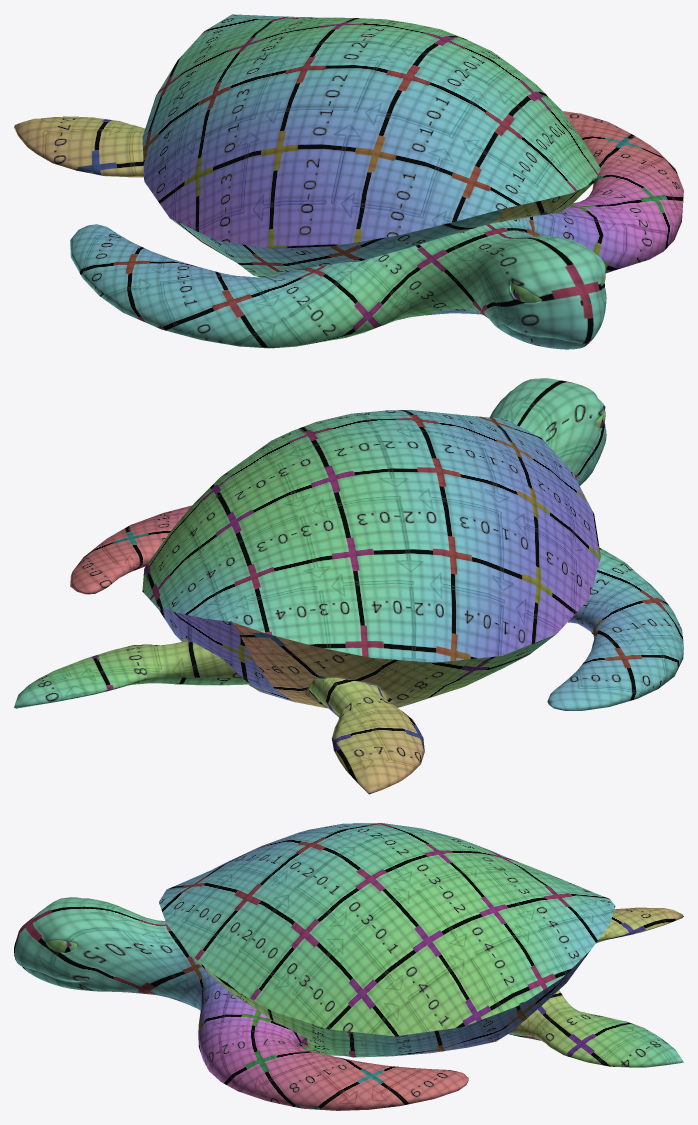
The model's file is turtle_uv.fbx.
The picture shows the model from 3 angles, top to bottom: view 1: azimuth 30°, elevation 25°; view 2: azimuth 150°, elevation 25°; view 3: azimuth 270°, elevation 25°; orthographic projection. The views are drawn at different scales.
Visible parts, largest first — view 1: shell_geo, f_legs_geo, r_leg_geo; view 2: shell_geo, f_legs_geo, r_leg_geo, l_leg_geo; view 3: shell_geo, f_legs_geo, l_leg_geo, r_leg_geo.
Boxes of the visible parts, x1,y1,x2,y2 form: shell_geo: (142, 14, 600, 277); f_legs_geo: (70, 111, 683, 349); r_leg_geo: (14, 116, 144, 177); shell_geo: (142, 410, 600, 708); f_legs_geo: (70, 378, 683, 710); r_leg_geo: (309, 677, 424, 794); l_leg_geo: (14, 640, 249, 708); shell_geo: (159, 823, 615, 1057); f_legs_geo: (14, 897, 468, 1110); l_leg_geo: (509, 990, 683, 1067); r_leg_geo: (596, 907, 683, 943).
Bounding box in the file's own units: 11.44 × 4.67 × 14.12.
Materials: 2 (2 with a texture image).
